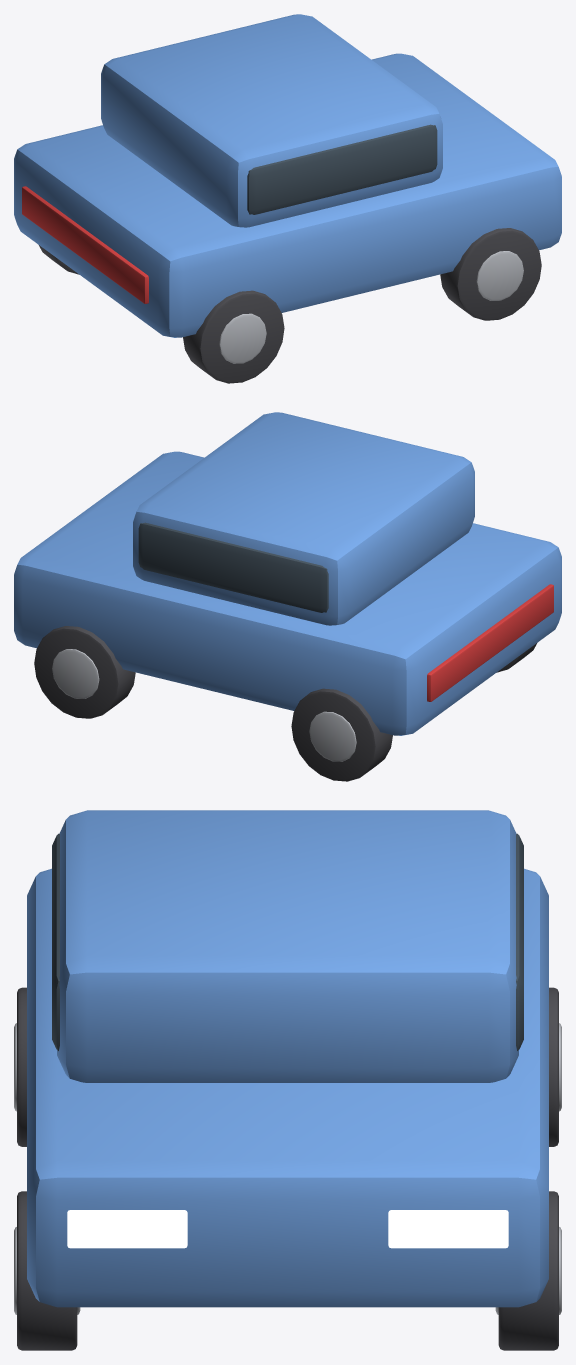
Rendered from prop_car.glb.
3 renders of one model, top to bottom at view 1: azimuth 30°, elevation 25°; view 2: azimuth 150°, elevation 25°; view 3: azimuth 270°, elevation 25°, orthographic. The views are drawn at different scales.
Visible parts, largest first — view 1: car; view 2: car; view 3: car.
Part boxes in pixels (x1=…): car: x1=14, y1=14, x2=561, y2=383; car: x1=14, y1=412, x2=561, y2=781; car: x1=14, y1=810, x2=561, y2=1350.
Size of the model in its own units: 76.5 by 38 by 54.6.
